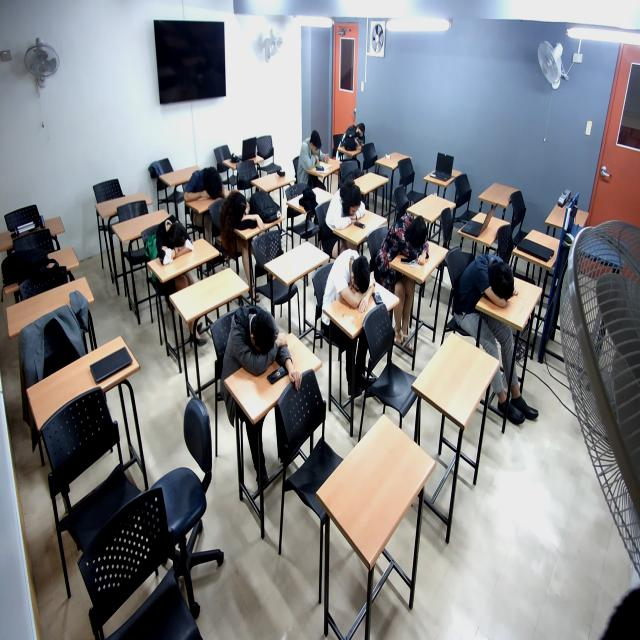sleep: (221, 307, 290, 376), (454, 255, 518, 311), (323, 249, 378, 309), (380, 214, 436, 267), (154, 217, 196, 272), (324, 186, 369, 234), (217, 194, 266, 238), (183, 166, 228, 205), (338, 124, 369, 155)
